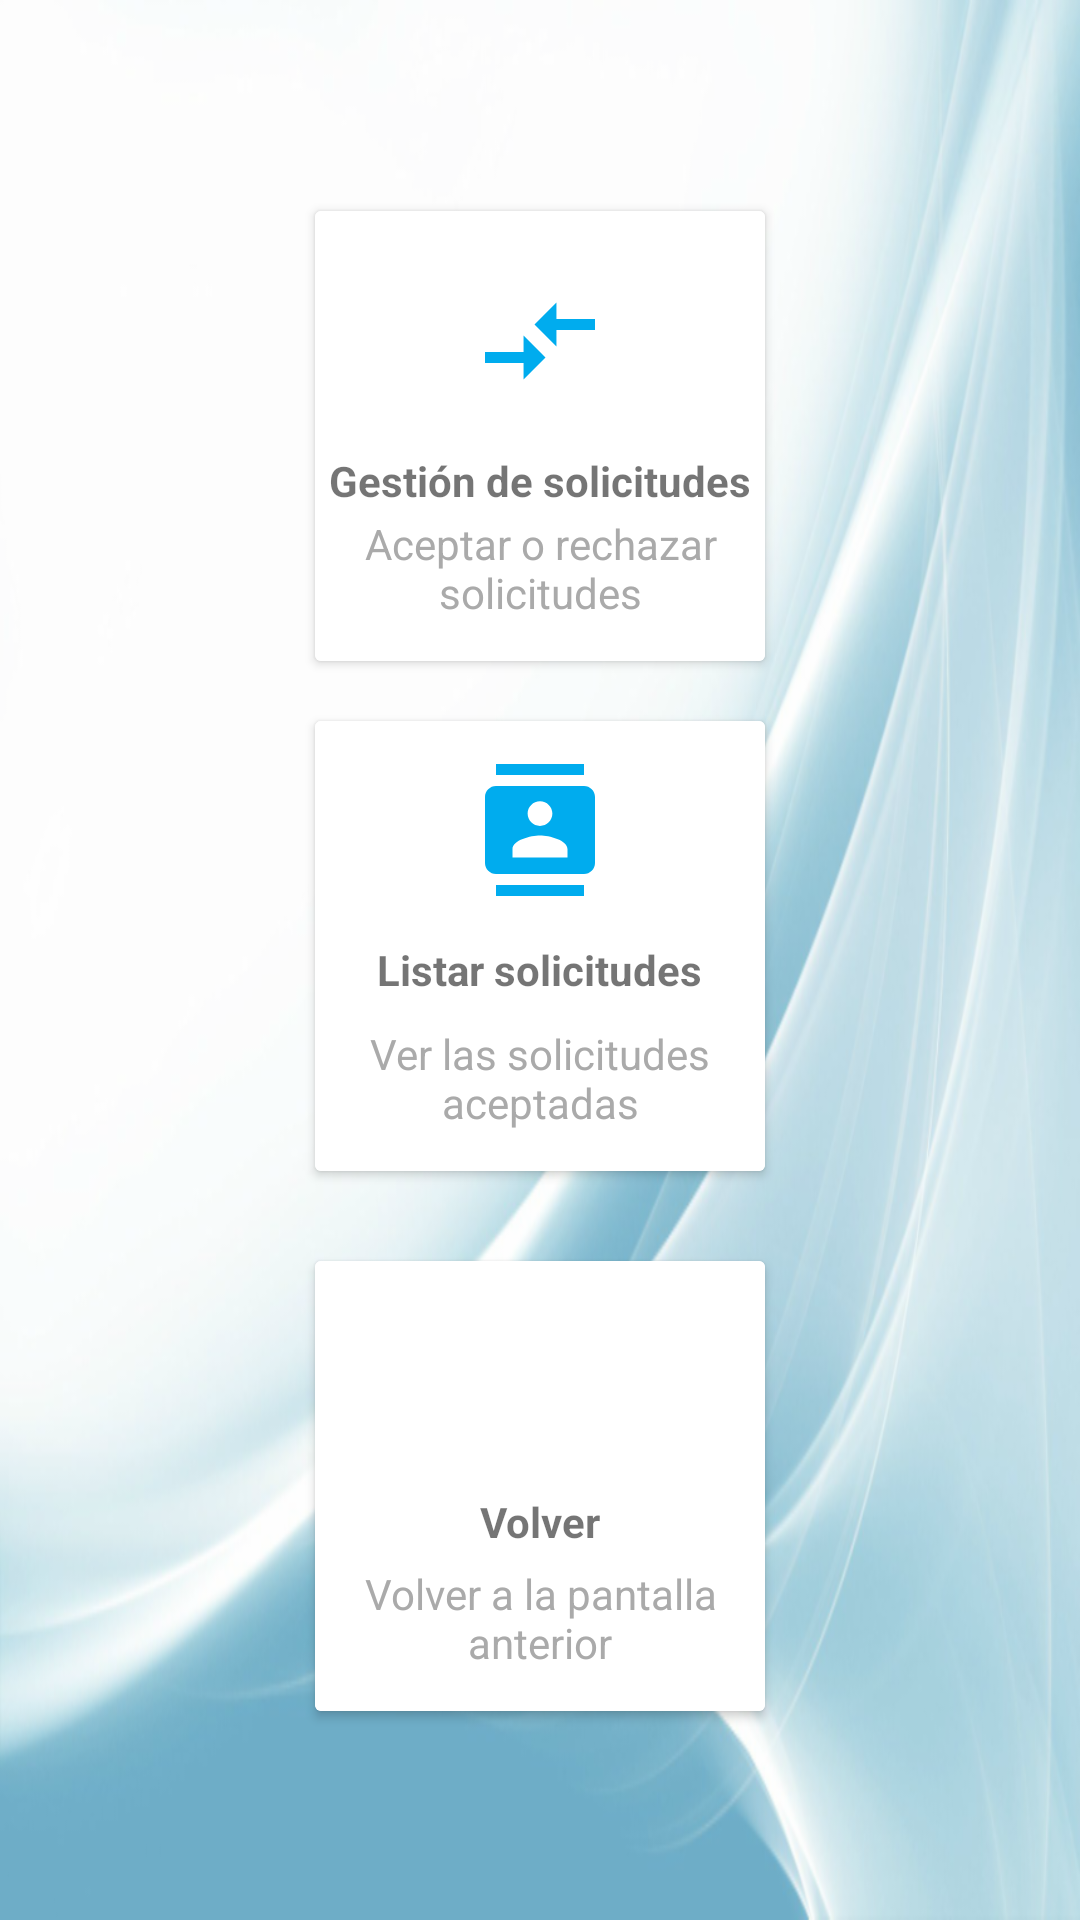

Where icons sit on this 1080 × 1920 app screen, as (x1, y1, x2, y2):
compare arrows: (485, 302, 595, 380)
contacts: (485, 764, 595, 896)
